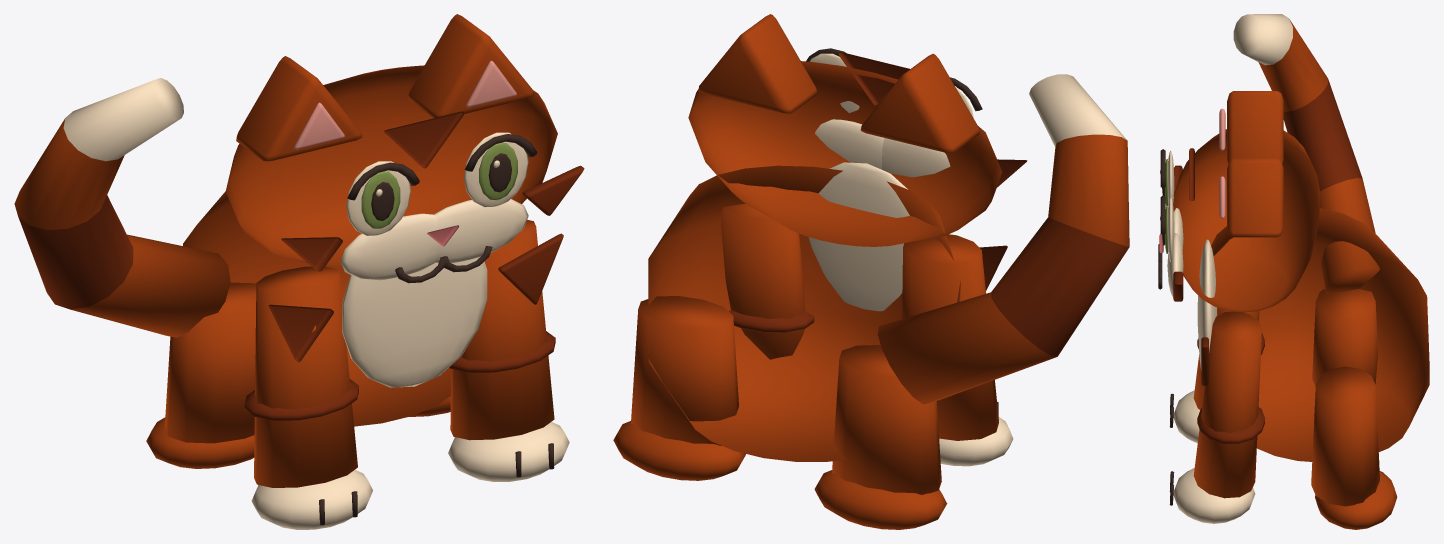
The model's file is cat-stand.glb.
3 renders of one model, left to right at view 1: azimuth 30°, elevation 25°; view 2: azimuth 150°, elevation 25°; view 3: azimuth 270°, elevation 25°, orthographic. The views are drawn at different scales.
Visible parts, largest first — view 1: cat-stand; view 2: cat-stand; view 3: cat-stand.
Part boxes in pixels (x1,y1,x2,y2): cat-stand: [14, 14, 584, 529]; cat-stand: [613, 14, 1129, 529]; cat-stand: [1158, 14, 1429, 529].
Bounding box in the file's own units: 0.7 × 0.6 × 0.4.
